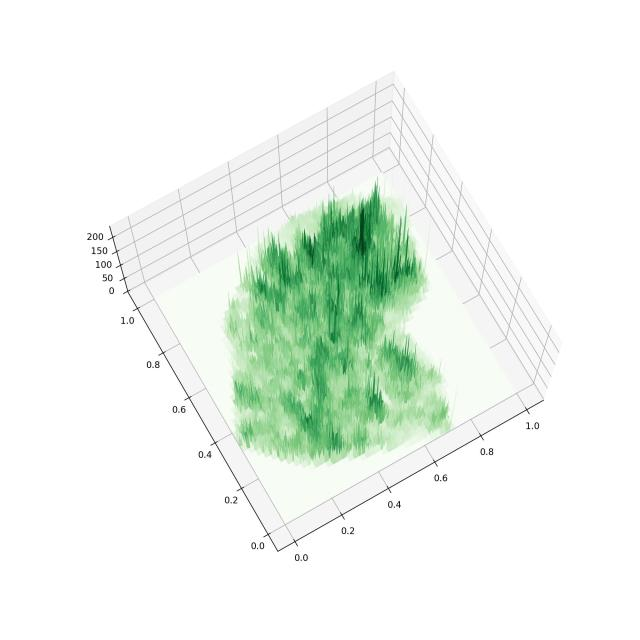pine: (60, 15, 592, 607)
